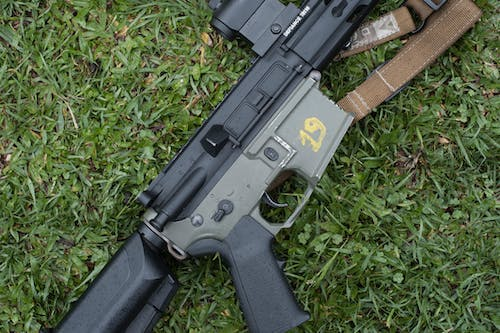gun: (48, 0, 388, 333)
